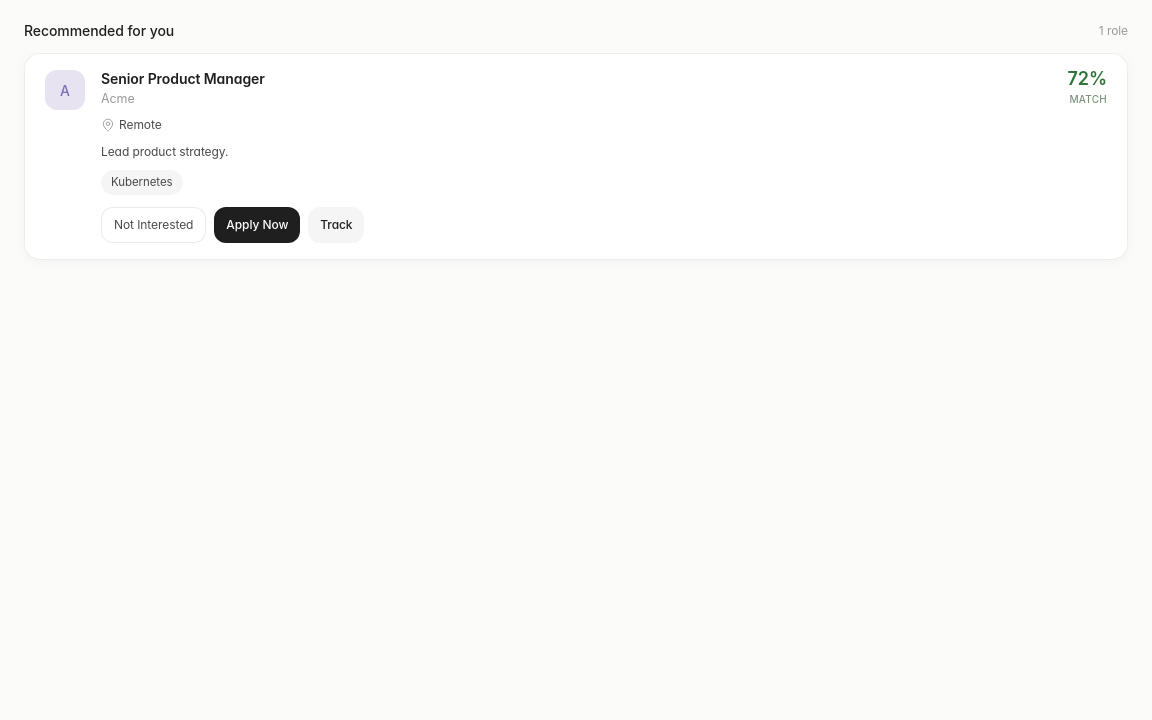
Test: SwipeJobDeck job details navigation › opens the improvement modal with a scored gauge and missing skills below 90%
The width and height of the screenshot is (1152, 720).
Click the button with test id "apply-job-1" at (257, 225), box [214, 207, 300, 243]
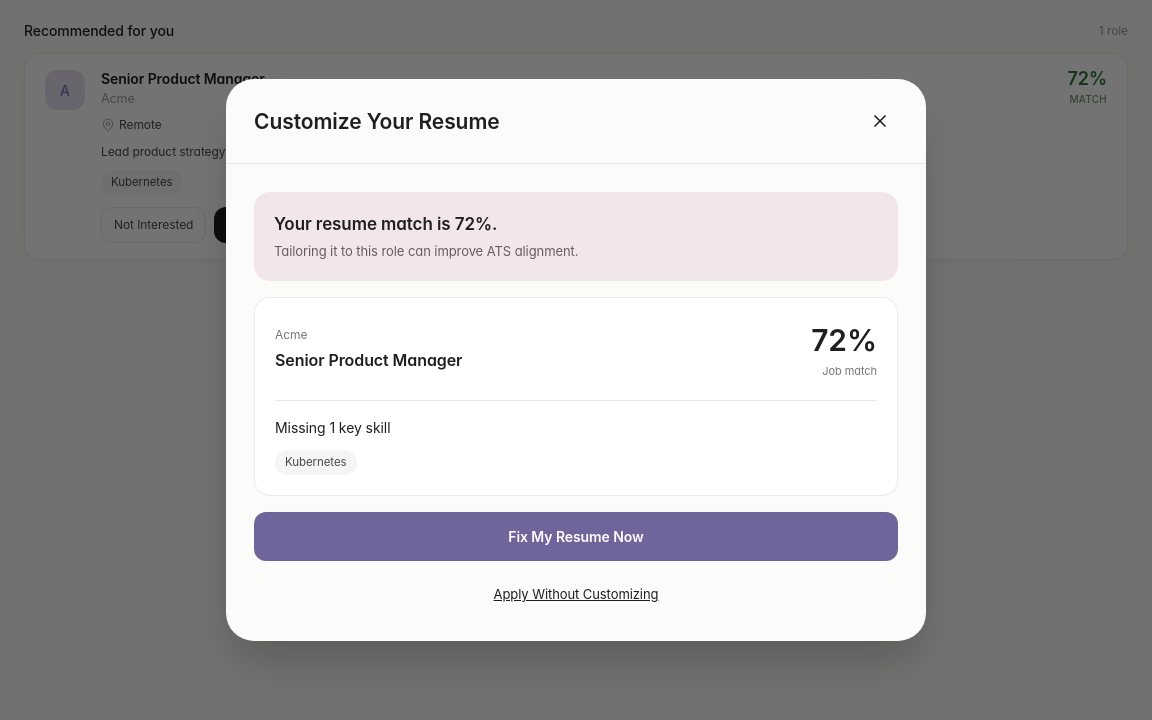
Expected: the text "Kubernetes" is shown, [275, 450, 356, 475]
Expected: the element with test id "improve-match-modal" is shown
Expected: the text "Customize Your Resume" is shown, [254, 106, 500, 137]
